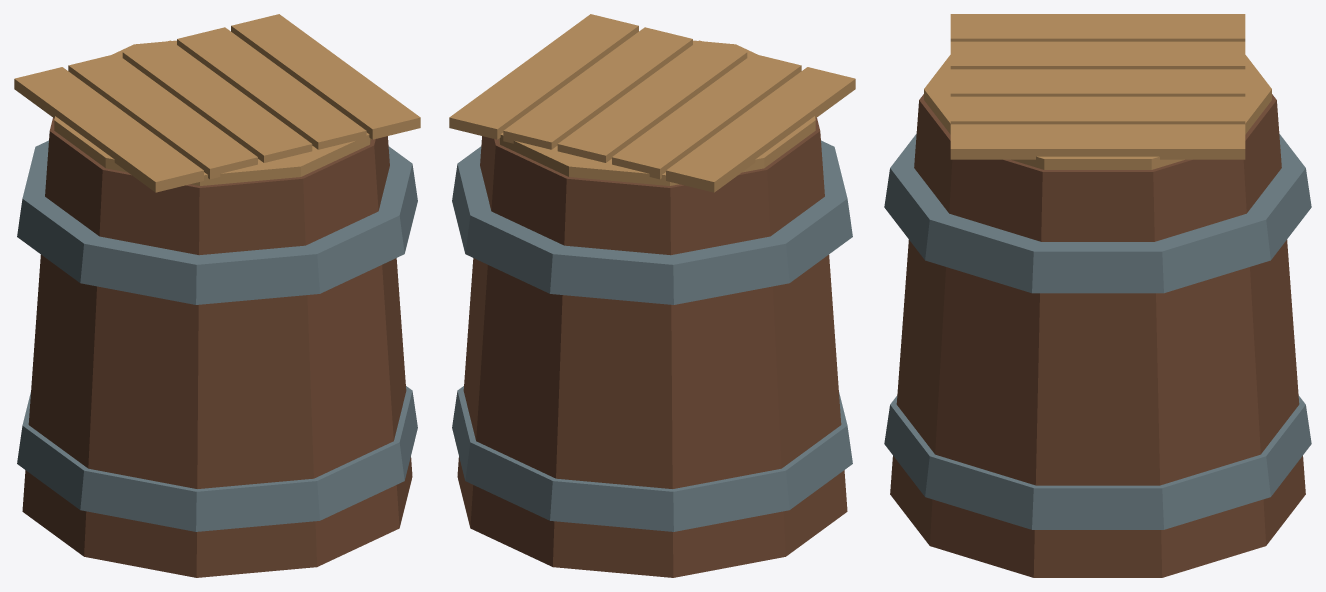
File: barrel.glb
3 views of the same model, side by side, from view 1: azimuth 30°, elevation 25°; view 2: azimuth 150°, elevation 25°; view 3: azimuth 270°, elevation 25° (orthographic). The views are drawn at different scales.
Parts seen in each view (by area): view 1: barrel; view 2: barrel; view 3: barrel.
Part boxes in pixels (left/top/right/bottom): barrel: left=14, top=14, right=420, bottom=577; barrel: left=449, top=14, right=855, bottom=577; barrel: left=884, top=14, right=1311, bottom=577.
Size of the model in its own units: 0.8407 by 0.9425 by 0.884.
